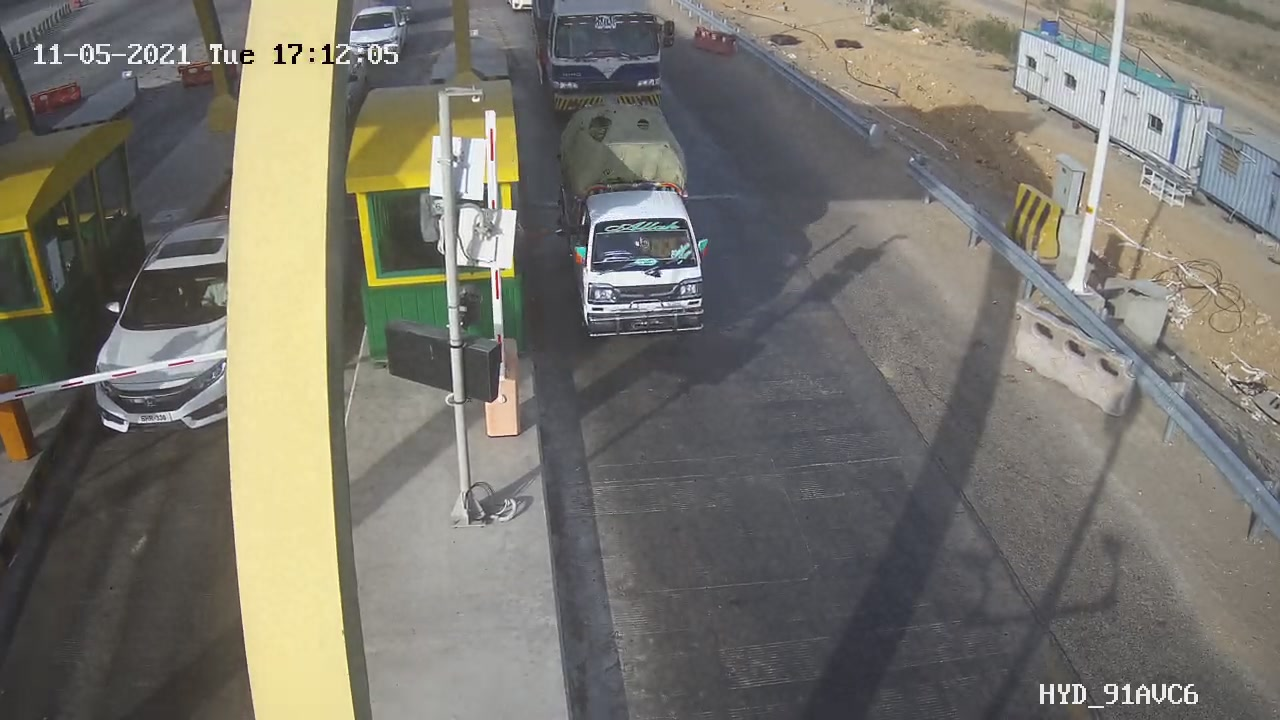F1: (542, 98, 740, 361)
